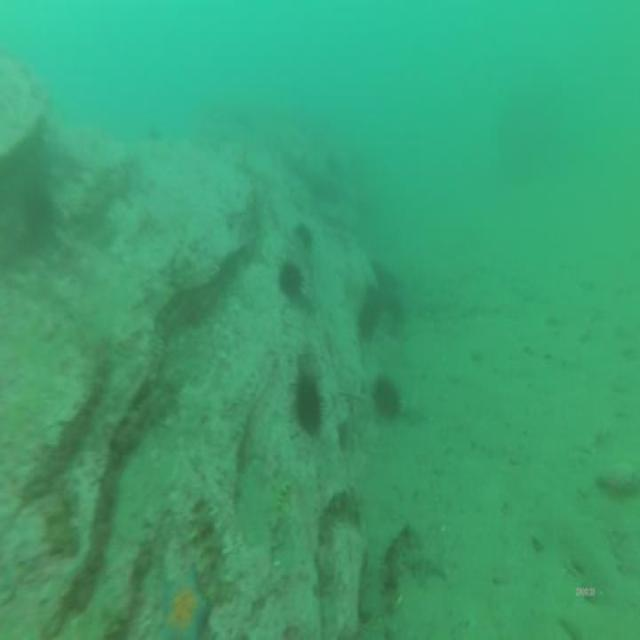echinus: (297, 375, 320, 436), (373, 371, 399, 419), (282, 264, 301, 297), (358, 305, 376, 337)
holothurian: (188, 498, 228, 602), (267, 480, 293, 532)
starfish: (157, 573, 208, 640), (406, 536, 447, 586), (599, 458, 638, 501)
